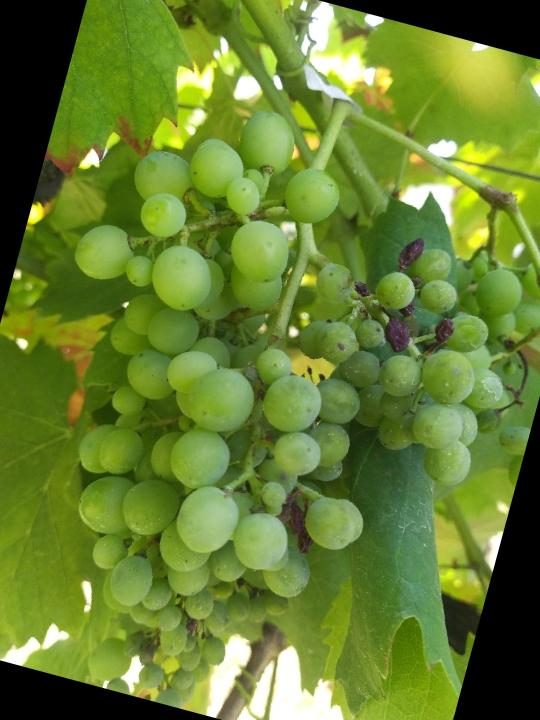grape: (0, 62, 540, 720)
